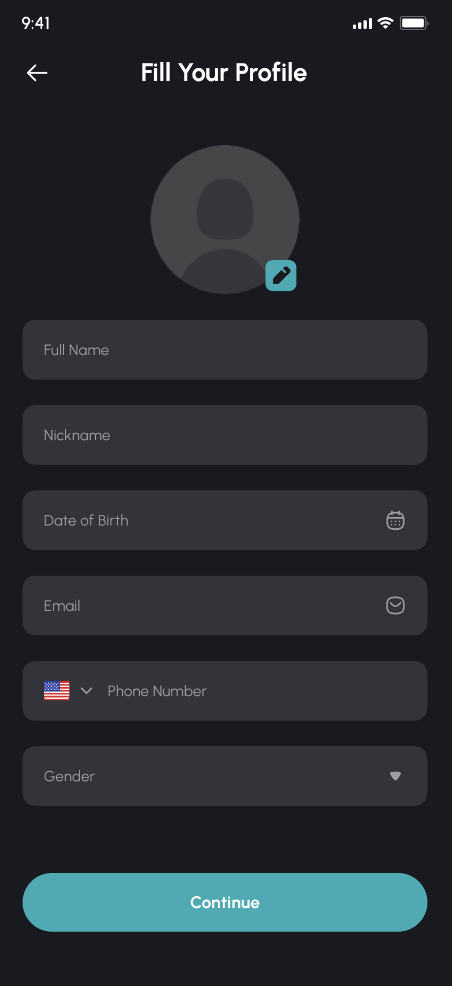AppBar: (1, 35, 452, 92)
